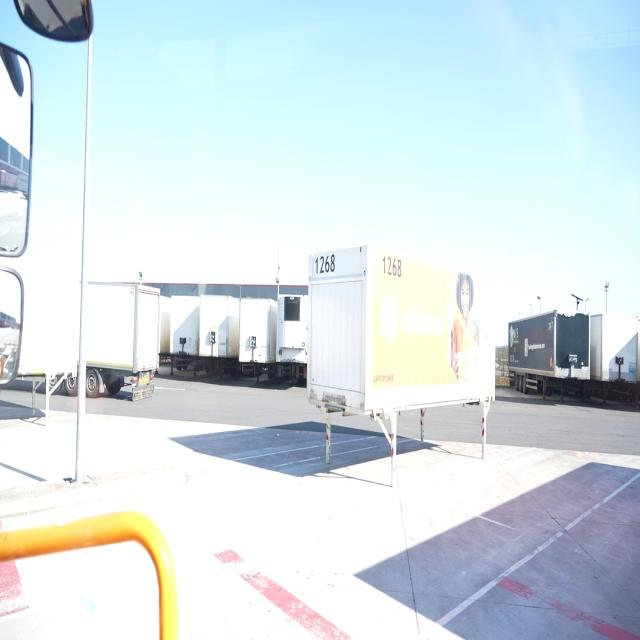Code: (379, 249, 406, 282), (310, 248, 339, 277)
